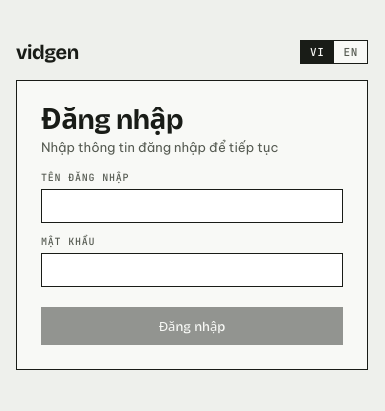
LoginForm › shows an error alert when login fails
Type "admin" into the field labelled "Tên đăng nhập" at (192, 206), box [41,189,343,223]
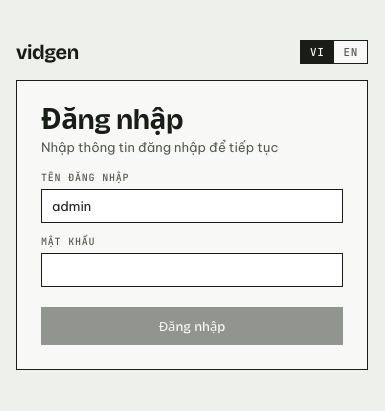
Type "wrong" into the password field labelled "Mật khẩu" at (192, 270), box [41,253,343,287]
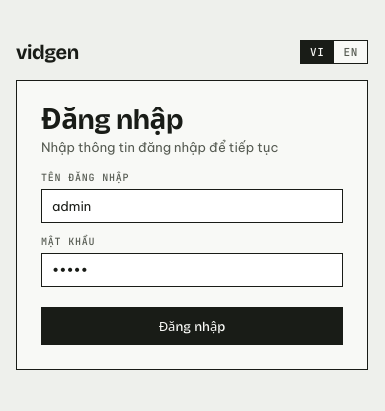
Click the button "Đăng nhập" at (192, 326), box [41,307,343,345]
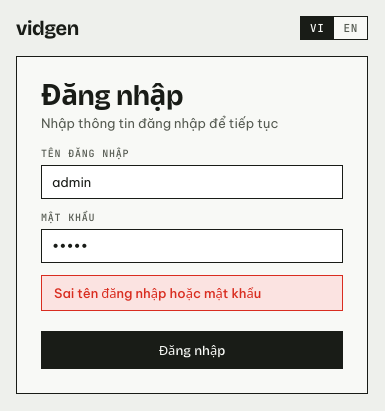
Now the message "Sai tên đăng nhập hoặc mật khẩu" is shown, box [41,275,343,311]
Now the message shows "Sai tên đăng nhập", box [54,285,261,301]
